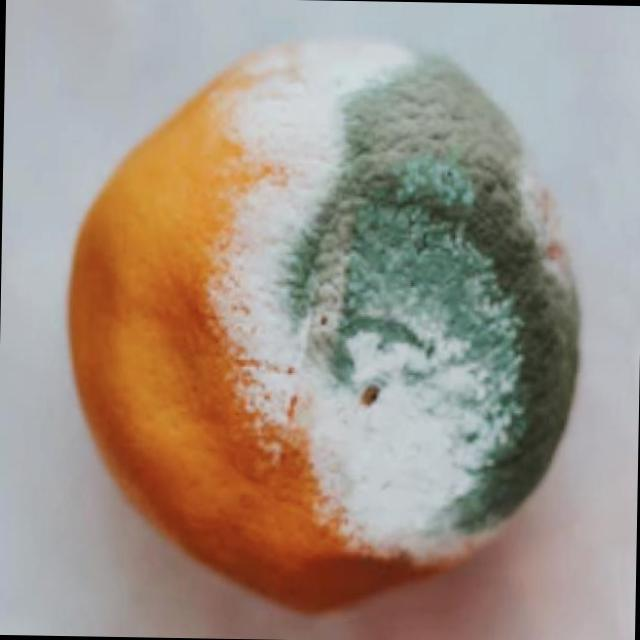rotten orange: (65, 34, 582, 615)
